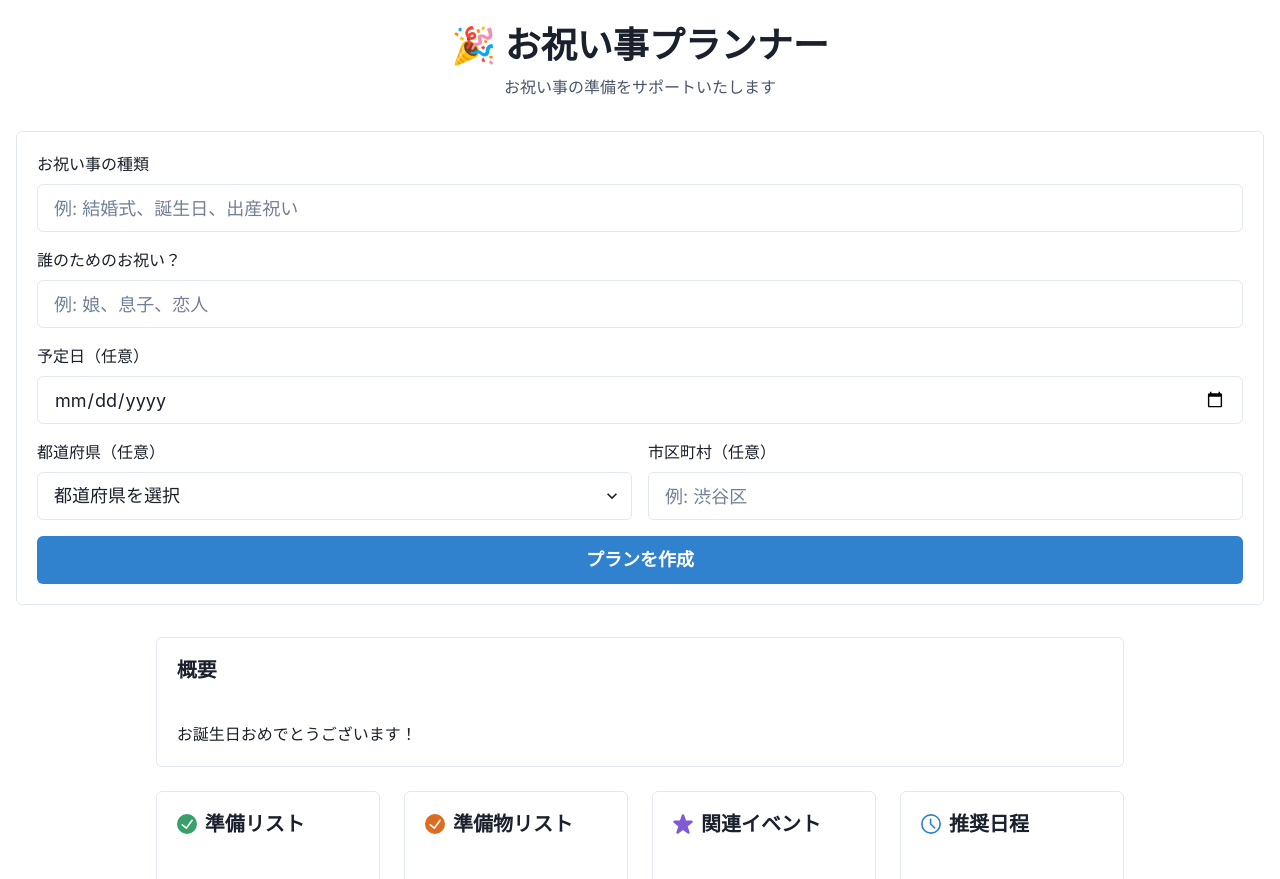
Scenario: 準備リストの詳細 › モーダルが表示され、内容が表示されること
Note: フォームに入力してプラン作成
Type "誕生日" into the field with placeholder "例: 結婚式、誕生日、出産祝い".
click(640, 208); type("誕生日")  # box x1=37 y1=184 x2=1243 y2=232
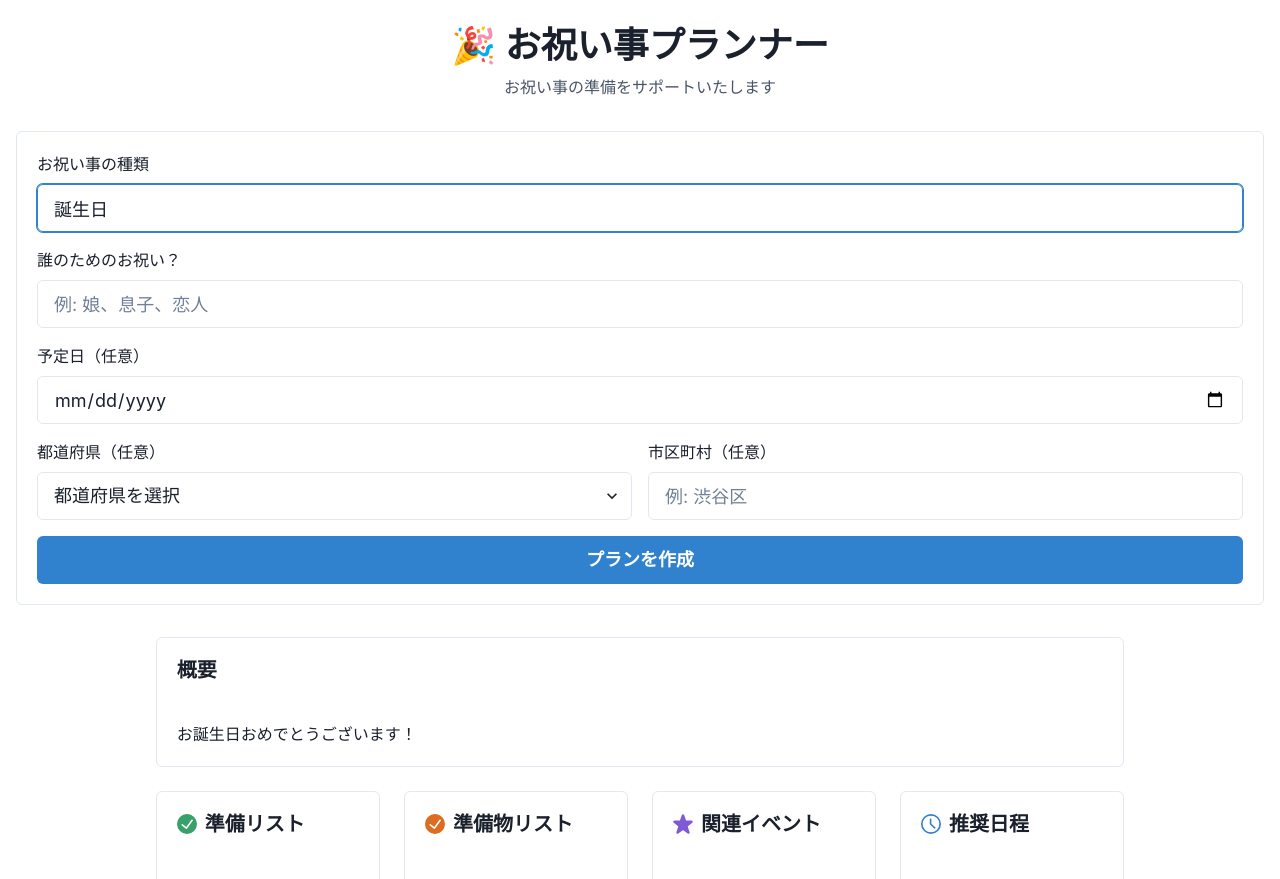
Type "娘" into the field with placeholder "例: 娘、息子、恋人".
click(640, 304); type("娘")  # box x1=37 y1=280 x2=1243 y2=328
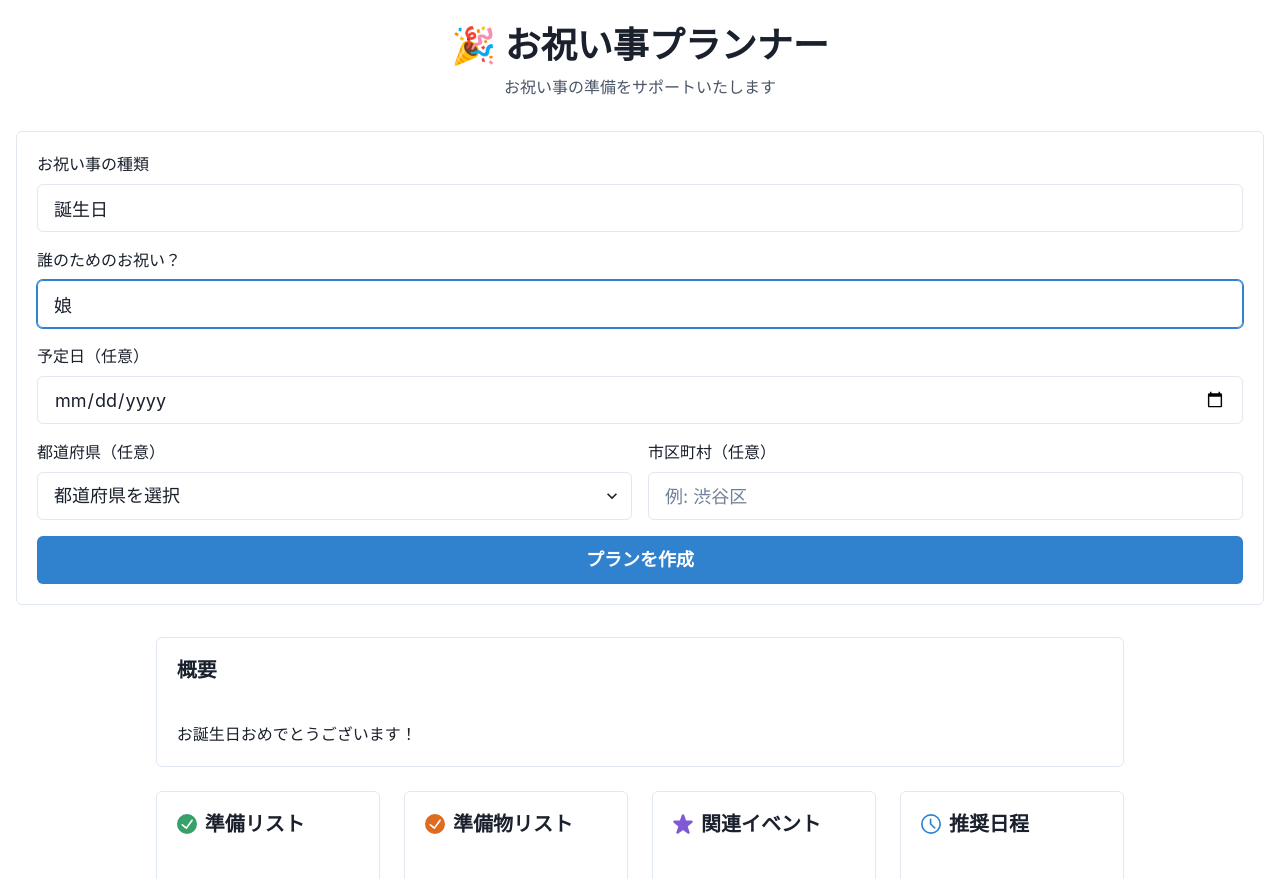
Click the button "プランを作成".
click(640, 560)  # box x1=37 y1=536 x2=1243 y2=584
(page scrolled)
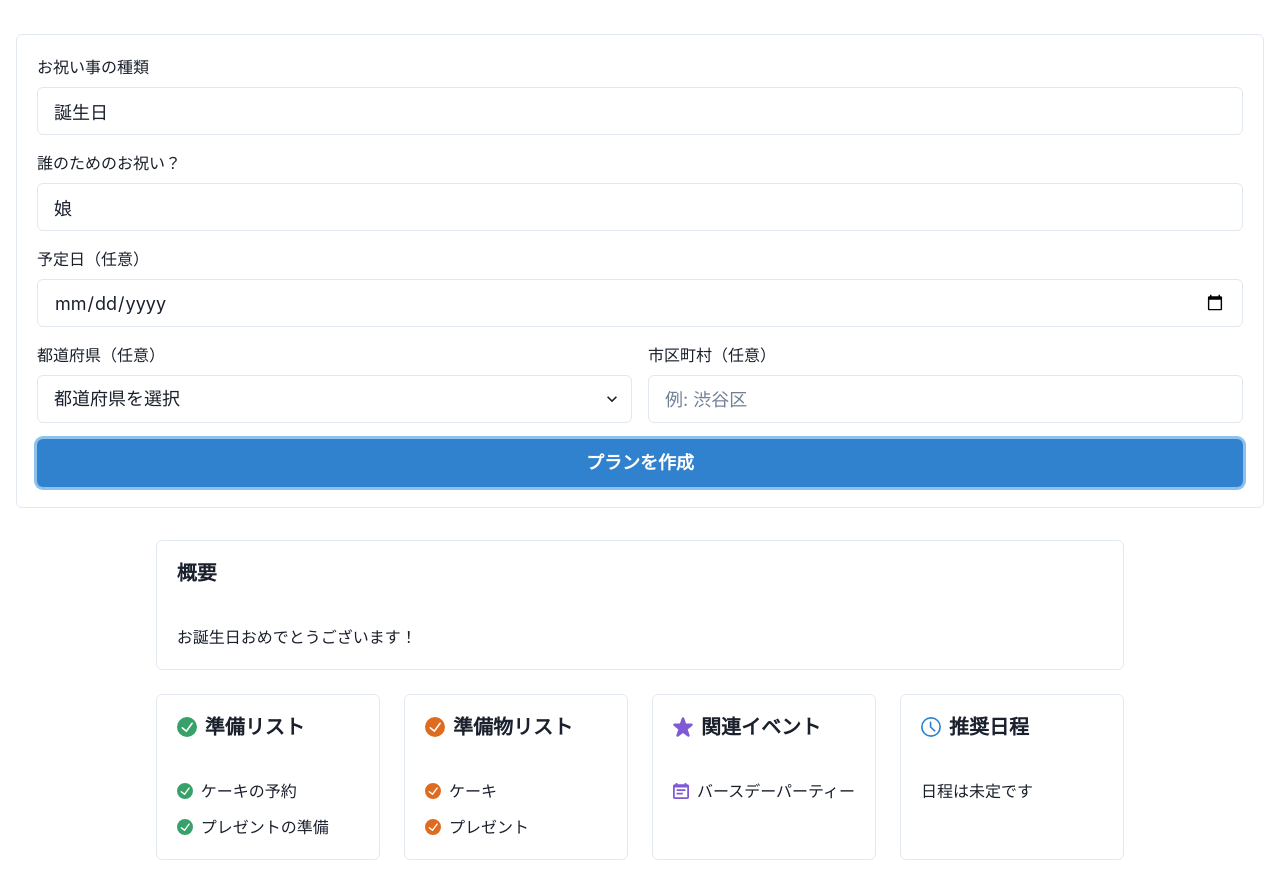
Note: 準備リストの項目をクリック
Click the list item "ケーキの予約".
click(237, 791)  # box x1=177 y1=781 x2=297 y2=801
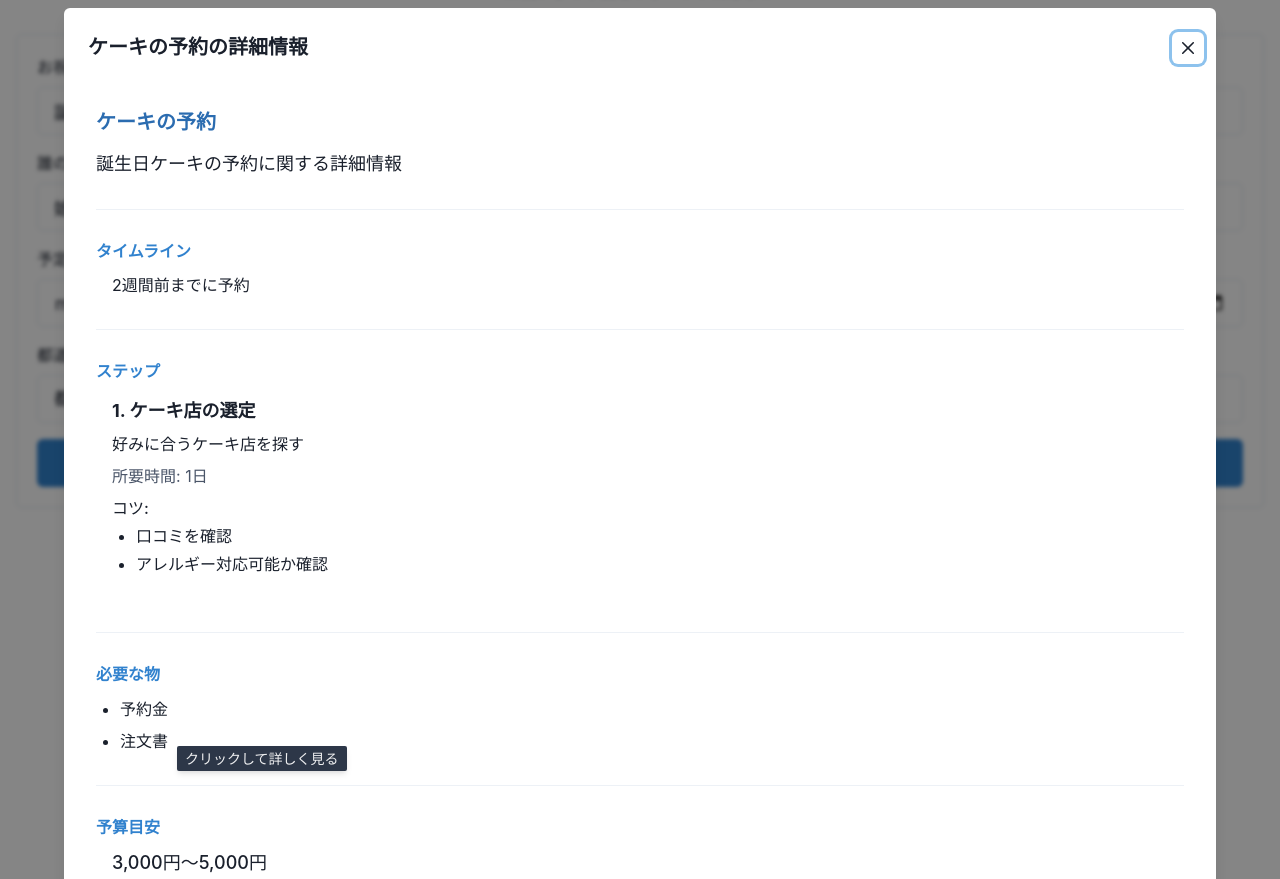
Check: the text "誕生日ケーキの予約に関する詳細情報" is shown, box x1=96 y1=153 x2=402 y2=174
Check: the text "2週間前までに予約" is shown, box x1=112 y1=275 x2=250 y2=295
Check: the text "1. ケーキ店の選定" is shown, box x1=112 y1=400 x2=256 y2=421
